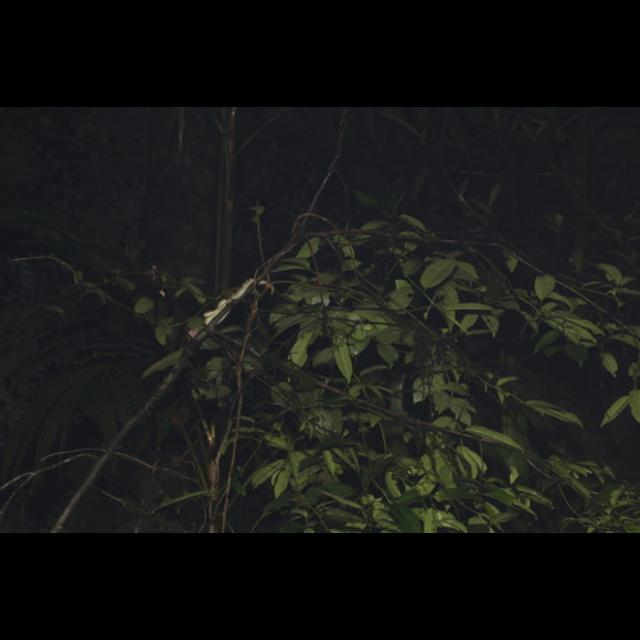snake: (202, 275, 258, 329)
